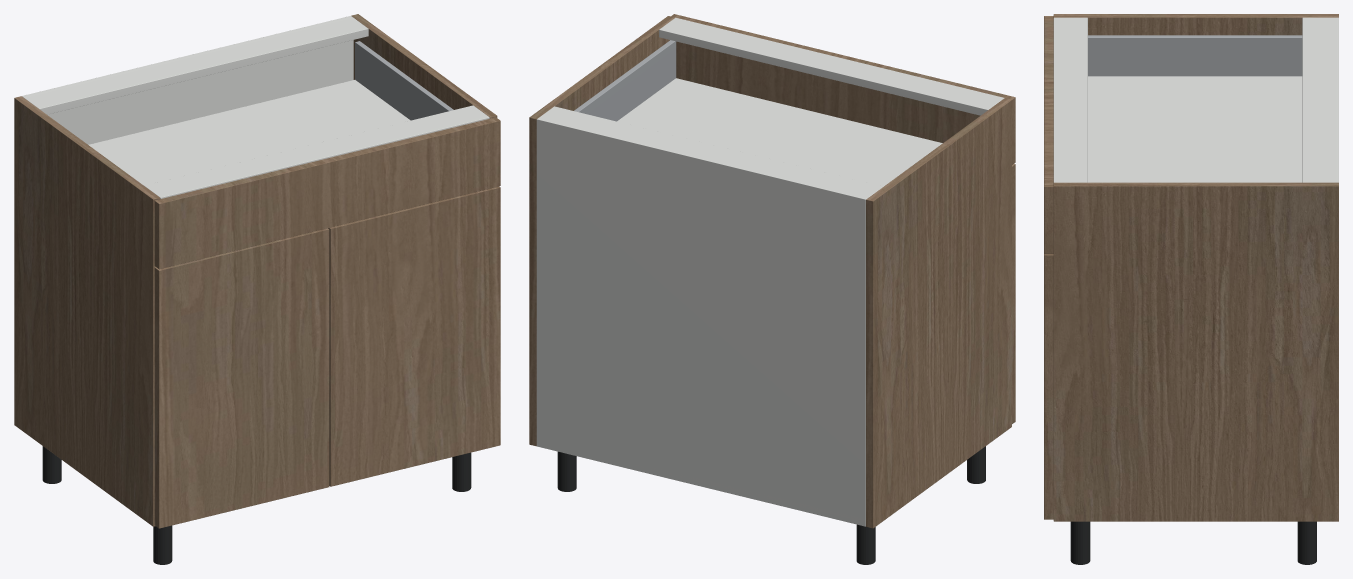
Rendered from oppein-pb-mnw-b33.glb.
3 views of the same model, side by side, from view 1: azimuth 30°, elevation 25°; view 2: azimuth 150°, elevation 25°; view 3: azimuth 270°, elevation 25° (orthographic). The views are drawn at different scales.
Visible parts, largest first — view 1: Cabinet side, Door, Door.001, Drawer front, Drawer floor, Cabinet back, Top support rail, Top support rail.001, Drawer side.001, Cabinet side.001, Adjustable foot.001, Adjustable foot.003 (+1 smaller); view 2: Cabinet back, Cabinet side, Drawer floor, Drawer front, Top support rail.001, Cabinet side.001, Top support rail, Drawer side.001, Door, Adjustable foot, Adjustable foot.002; view 3: Cabinet side.001, Drawer floor, Drawer side, Top support rail.001, Top support rail, Cabinet side, Door.001, Drawer front, Cabinet back, Adjustable foot.003, Adjustable foot.002.
Part boxes in pixels (x1,y1,x2,y2): Cabinet side: (14,96,160,526); Door: (154,228,329,528); Door.001: (328,186,500,486); Drawer front: (154,117,500,269); Drawer floor: (88,80,410,185); Cabinet back: (22,16,353,144); Top support rail: (24,17,368,114); Top support rail.001: (144,105,489,198); Drawer side.001: (355,41,453,120); Cabinet side.001: (351,14,497,118); Adjustable foot.001: (153,525,172,564); Adjustable foot.003: (452,452,471,491); Cabinet back: (536,117,867,526); Cabinet side: (866,98,1011,528); Drawer floor: (617,78,942,186); Drawer front: (671,14,1015,164); Top support rail.001: (659,17,1004,115); Cabinet side.001: (529,16,674,446); Top support rail: (540,106,883,198); Drawer side.001: (574,40,676,121); Door: (1012,163,1015,423); Adjustable foot: (856,524,875,564); Adjustable foot.002: (557,451,576,491); Cabinet side.001: (1053,182,1338,521); Drawer floor: (1088,76,1302,182); Drawer side: (1088,35,1302,76); Top support rail.001: (1053,17,1087,182); Top support rail: (1302,17,1333,182); Cabinet side: (1053,14,1338,35); Door.001: (1044,254,1053,519); Drawer front: (1044,16,1053,253); Cabinet back: (1333,17,1338,182); Adjustable foot.003: (1070,521,1090,564); Adjustable foot.002: (1297,521,1316,564).
Size of the model in its own units: 0.8382 by 0.8763 by 0.6064.
Materials: 4 (1 with a texture image).
